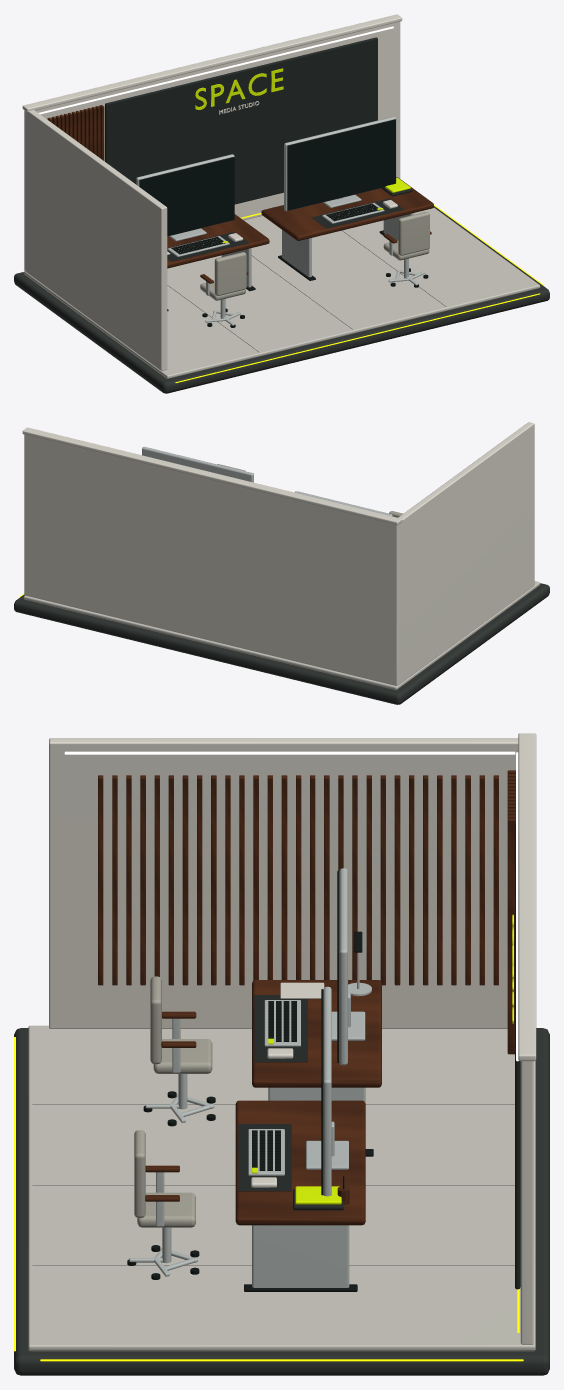
File: studio-space-20261105.glb
The picture shows the model from 3 angles, top to bottom: view 1: azimuth 30°, elevation 25°; view 2: azimuth 150°, elevation 25°; view 3: azimuth 270°, elevation 25°; orthographic projection. The views are drawn at different scales.
Parts seen in each view (by area): view 1: Assembly_Floor_Mesh, Assembly_AcousticWall_Mesh, Mineral side wall, Assembly_BackWall_Mesh, Screen_Hero, Screen_Secondary, Assembly_MainDesktop_Mesh, Assembly_SecondChair_Mesh, Assembly_MainChair_Mesh, Assembly_SecondDesktop_Mesh, Assembly_MainMonitor_Mesh, Assembly_MainDeskLegs_Mesh (+5 smaller); view 2: Assembly_BackWall_Mesh, Mineral side wall, Assembly_Floor_Mesh, Assembly_MainMonitor_Mesh; view 3: Assembly_Floor_Mesh, Mineral side wall, Assembly_AcousticWall_Mesh, Assembly_BackWall_Mesh, Assembly_MainDesktop_Mesh, Assembly_SecondDesktop_Mesh, Assembly_MainDeskLegs_Mesh, Assembly_SecondChair_Mesh, Assembly_MainChair_Mesh, Assembly_MainInputs_Mesh, Assembly_SecondInputs_Mesh, Assembly_MainMonitor_Mesh (+4 smaller).
Part boxes in pixels (x1,y1,x2,y2): Assembly_Floor_Mesh: [14, 205, 549, 393]; Assembly_AcousticWall_Mesh: [47, 37, 377, 204]; Mineral side wall: [25, 110, 167, 370]; Assembly_BackWall_Mesh: [22, 14, 402, 271]; Screen_Hero: [289, 121, 394, 209]; Screen_Secondary: [141, 158, 233, 235]; Assembly_MainDesktop_Mesh: [261, 177, 433, 240]; Assembly_SecondChair_Mesh: [200, 252, 248, 327]; Assembly_MainChair_Mesh: [383, 212, 431, 287]; Assembly_SecondDesktop_Mesh: [167, 214, 269, 268]; Assembly_MainMonitor_Mesh: [284, 116, 396, 211]; Assembly_MainDeskLegs_Mesh: [278, 213, 413, 280]; Assembly_BackWall_Mesh: [22, 427, 402, 685]; Mineral side wall: [398, 422, 534, 684]; Assembly_Floor_Mesh: [14, 581, 549, 704]; Assembly_MainMonitor_Mesh: [142, 446, 253, 482]; Assembly_Floor_Mesh: [14, 1025, 549, 1375]; Mineral side wall: [49, 738, 518, 1028]; Assembly_AcousticWall_Mesh: [98, 770, 520, 1289]; Assembly_BackWall_Mesh: [518, 733, 536, 1344]; Assembly_MainDesktop_Mesh: [235, 1100, 365, 1225]; Assembly_SecondDesktop_Mesh: [252, 980, 381, 1087]; Assembly_MainDeskLegs_Mesh: [244, 1225, 357, 1291]; Assembly_SecondChair_Mesh: [143, 976, 215, 1126]; Assembly_MainChair_Mesh: [127, 1130, 199, 1279]; Assembly_MainInputs_Mesh: [238, 1124, 291, 1191]; Assembly_SecondInputs_Mesh: [254, 995, 307, 1062]; Assembly_MainMonitor_Mesh: [306, 986, 348, 1196].
Size of the model in its own units: 9.71 by 4.33 by 6.6.
Materials: 12 (1 with a texture image).
